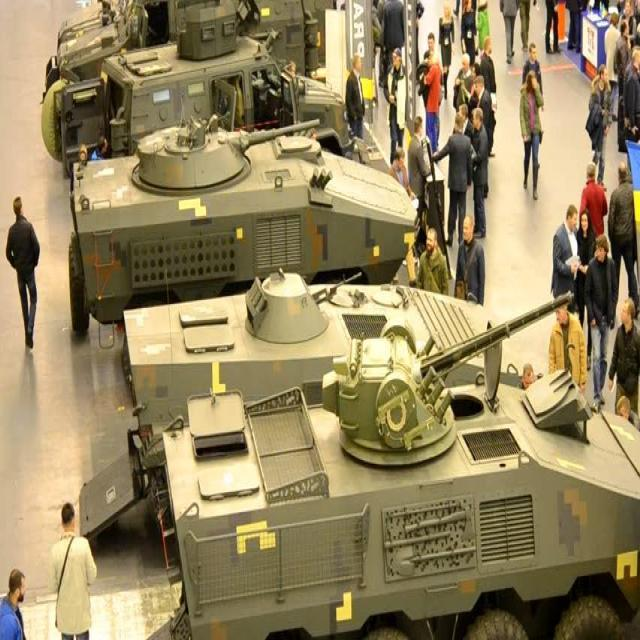Tanks: (167, 392, 638, 624), (76, 107, 426, 276), (125, 262, 512, 374)
